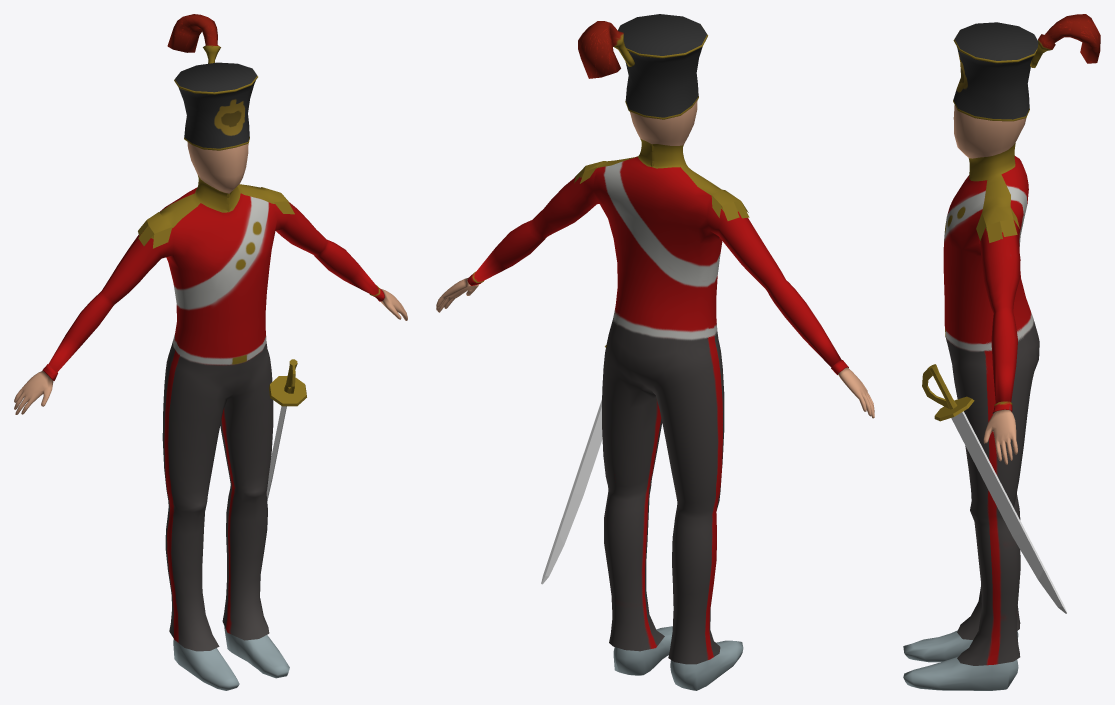
Rendered from Guarda Cavalaria.fbx.
The picture shows the model from 3 angles, left to right: view 1: azimuth 30°, elevation 25°; view 2: azimuth 150°, elevation 25°; view 3: azimuth 270°, elevation 25°; orthographic projection. The views are drawn at different scales.
Visible parts, largest first — view 1: Guarda.004, Circle, Guarda Sapatos.004, Penado Chapeu.002, Empunhadura.004; view 2: Guarda.004, Circle, Guarda Sapatos.004, Penado Chapeu.002, Lamina.004; view 3: Guarda.004, Circle, Guarda Sapatos.004, Lamina.004, Penado Chapeu.002, Empunhadura.004.
Boxes of the visible parts, x1,y1,x2,y2 form: Guarda.004: (14,142,407,651); Circle: (174,62,257,150); Guarda Sapatos.004: (173,626,289,690); Penado Chapeu.002: (167,14,220,63); Empunhadura.004: (269,359,306,406); Guarda.004: (436,100,874,664); Circle: (618,14,707,119); Guarda Sapatos.004: (613,626,743,690); Penado Chapeu.002: (578,21,634,78); Lamina.004: (541,400,602,584); Guarda.004: (943,105,1039,665); Circle: (953,22,1038,121); Guarda Sapatos.004: (903,630,1018,690); Lamina.004: (951,411,1066,613); Penado Chapeu.002: (1030,14,1100,67); Empunhadura.004: (922,364,974,421).
Size of the model in its own units: 135 by 201 by 54.13.
Materials: 7 (4 with a texture image).
